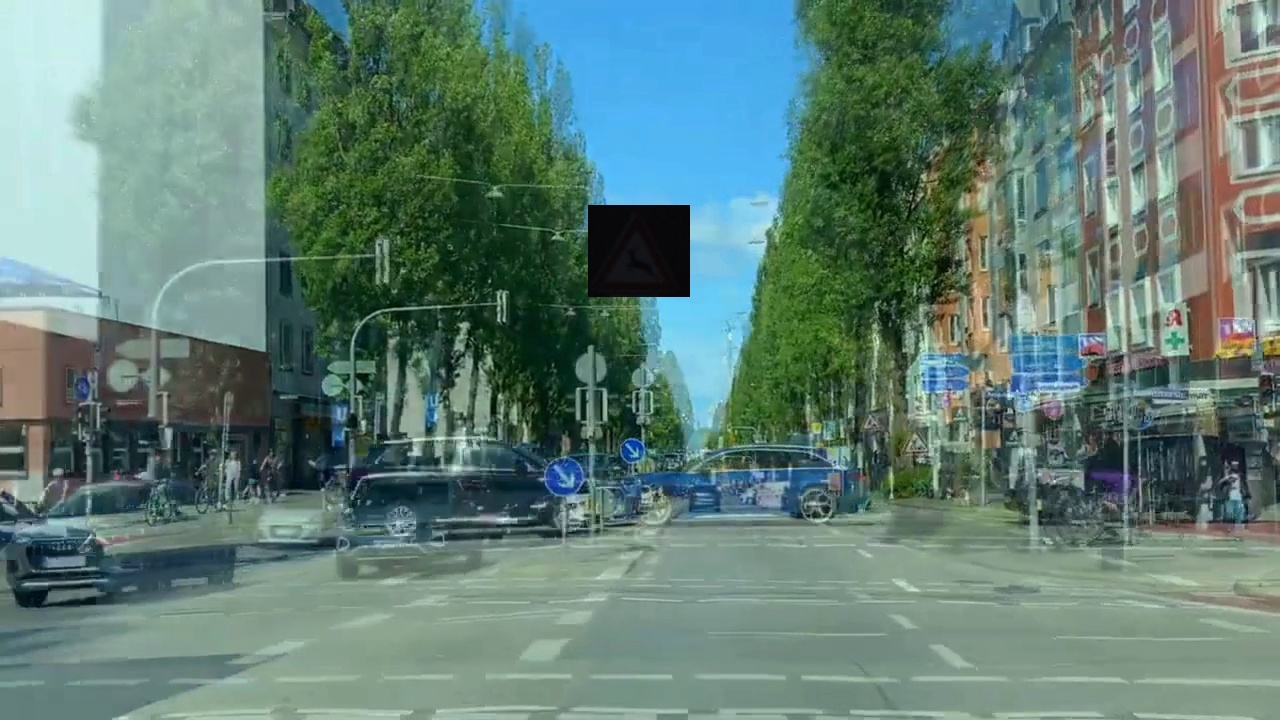Wild animals: (588, 205, 690, 297)
